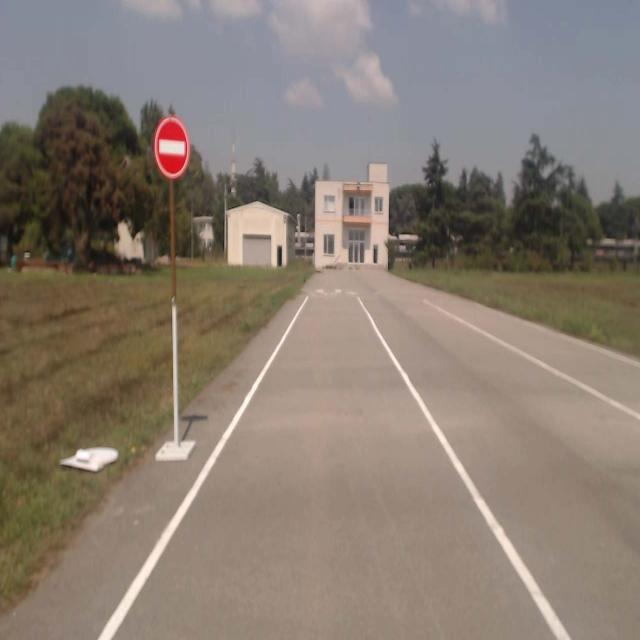girisyok: (155, 118, 188, 174)
